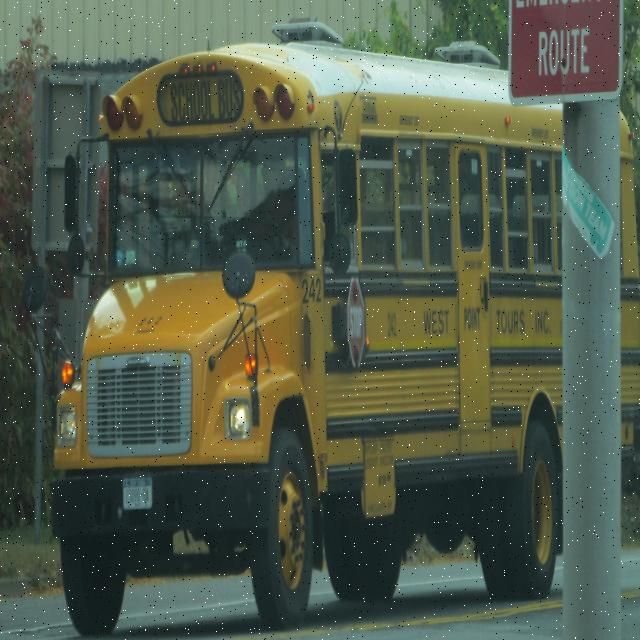Bus: (54, 24, 636, 626)
